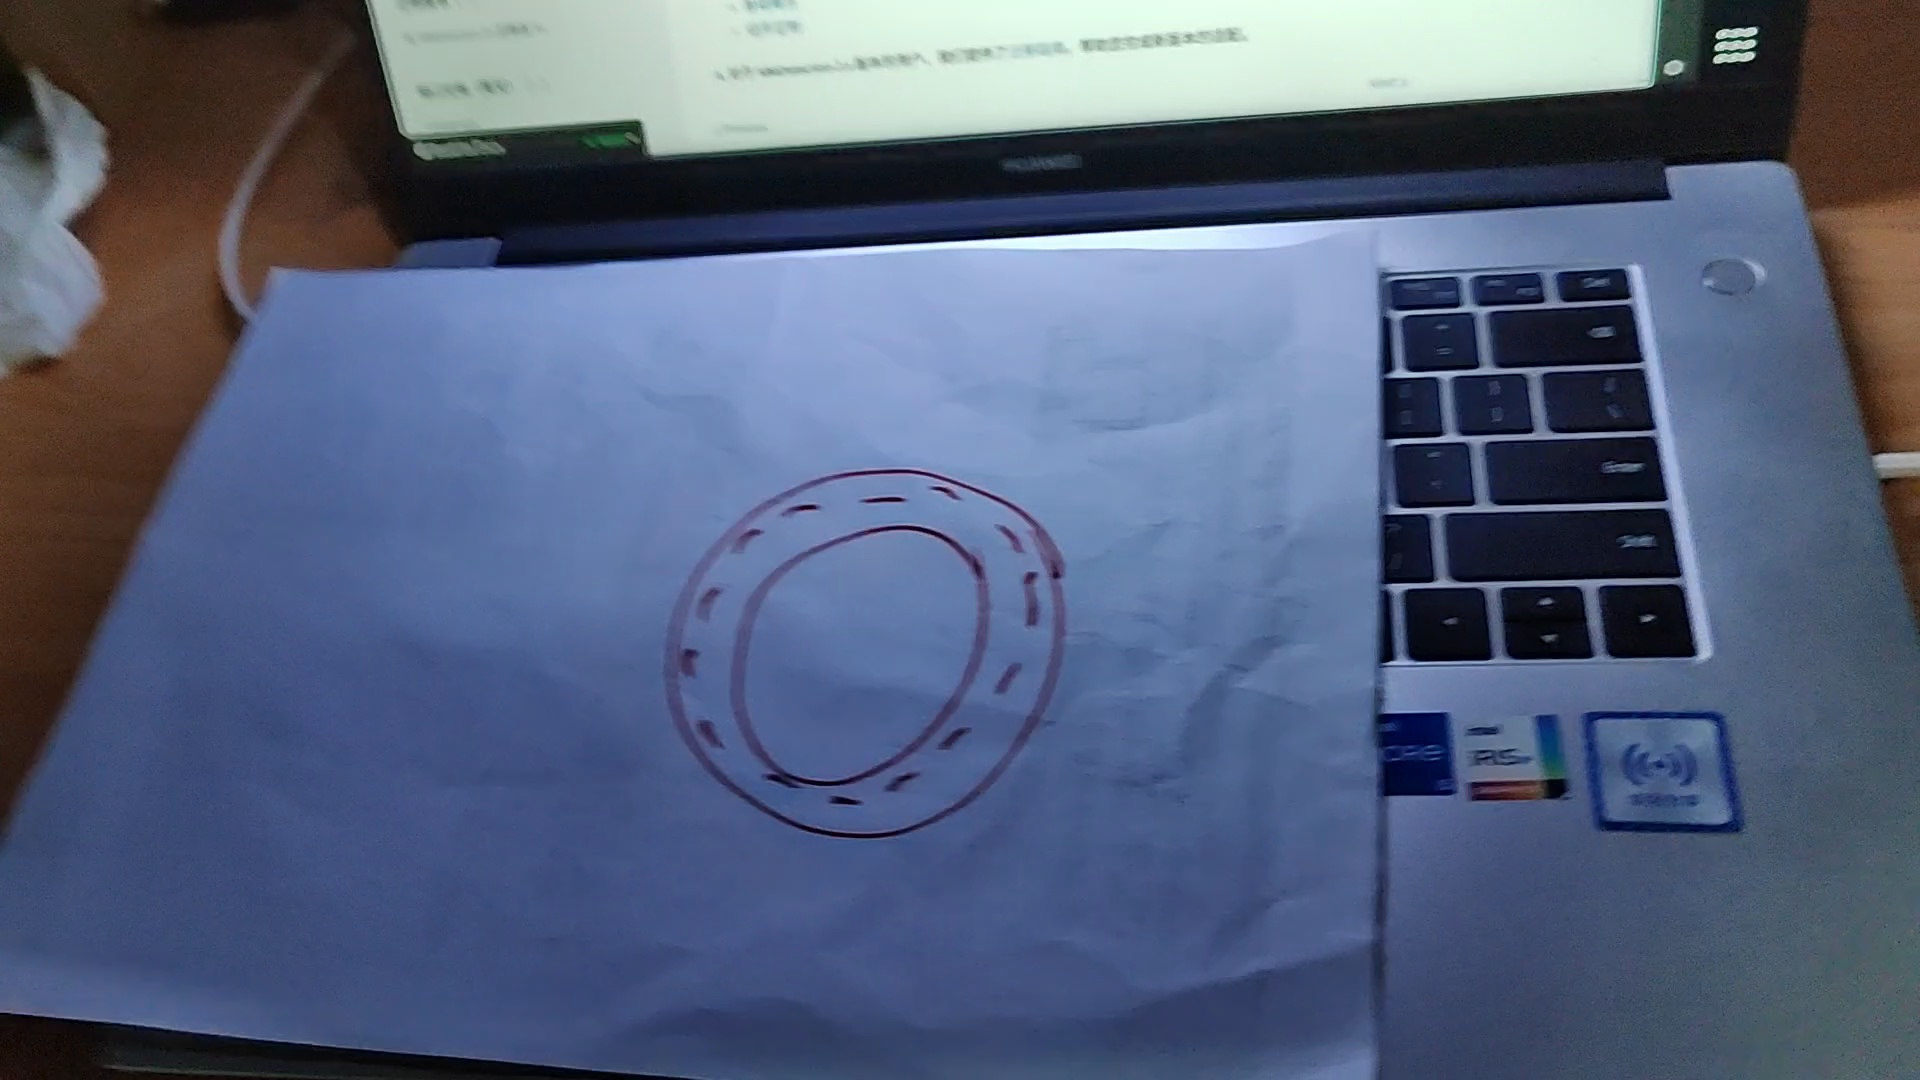circle: (667, 469, 1068, 840)
